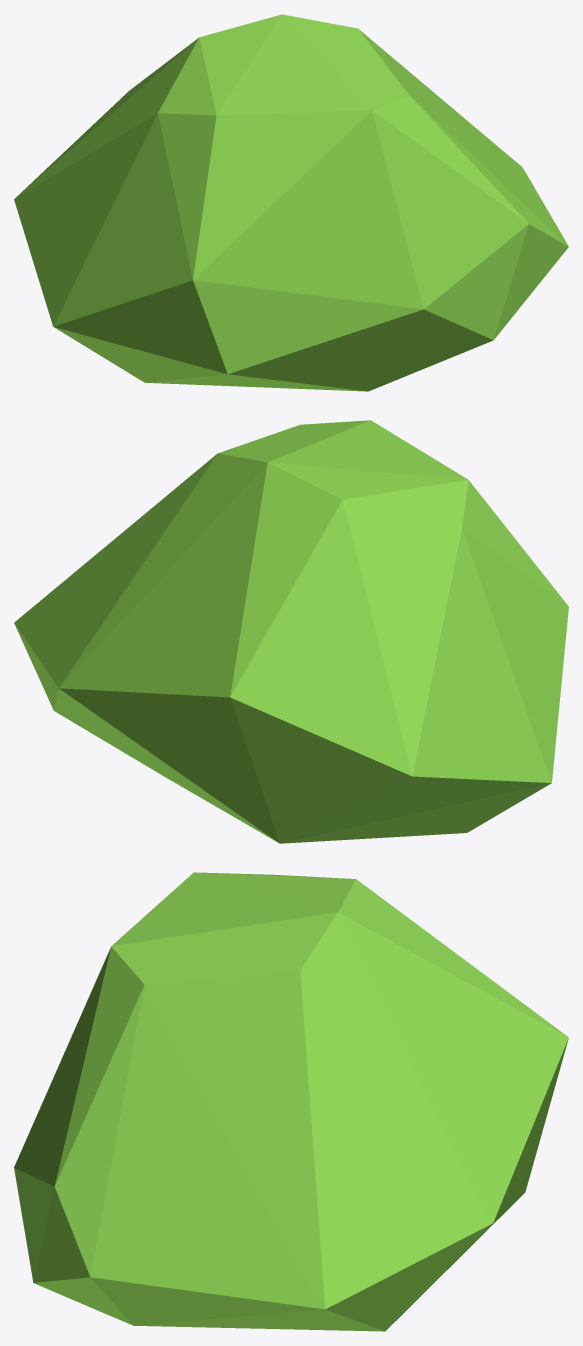
File: Mosh 06.FBX
3 views of the same model, one above another, from view 1: azimuth 30°, elevation 25°; view 2: azimuth 150°, elevation 25°; view 3: azimuth 270°, elevation 25° (orthographic). The views are drawn at different scales.
Parts seen in each view (by area): view 1: cube; view 2: cube; view 3: cube.
Boxes of the visible parts, box(x1,y1,x2,y2) form: cube: box(14, 14, 568, 391); cube: box(14, 420, 568, 843); cube: box(14, 872, 568, 1331).
Size of the model in its own units: 81.96 by 51.27 by 66.61.
